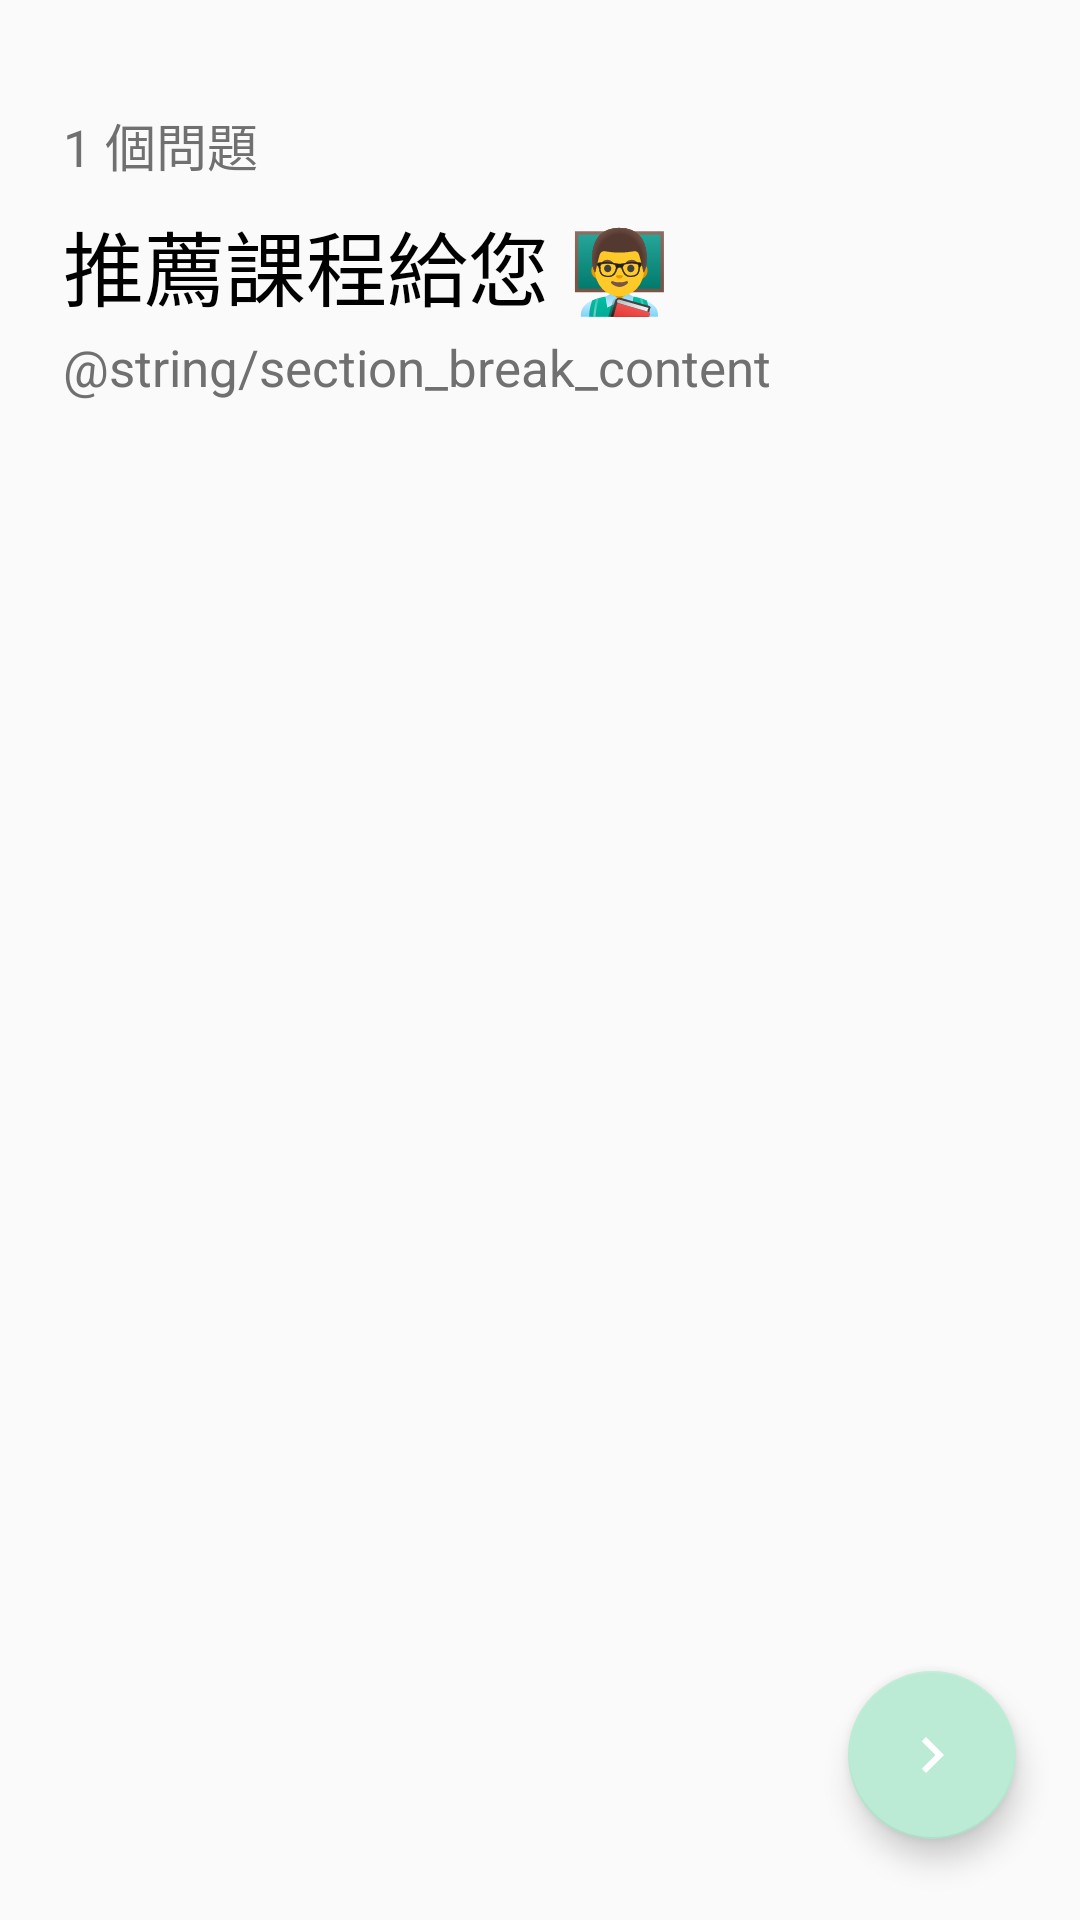

Icon click points for this 1080px x 1920px phone screenshot, format (x,y):
next: (932,1755)
